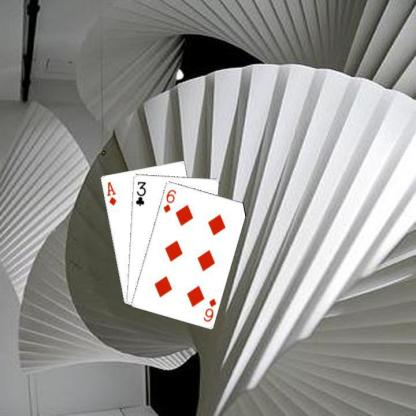3C: (133, 178, 147, 207)
6D: (160, 186, 178, 214), (200, 296, 218, 323)
AD: (104, 179, 117, 206)
